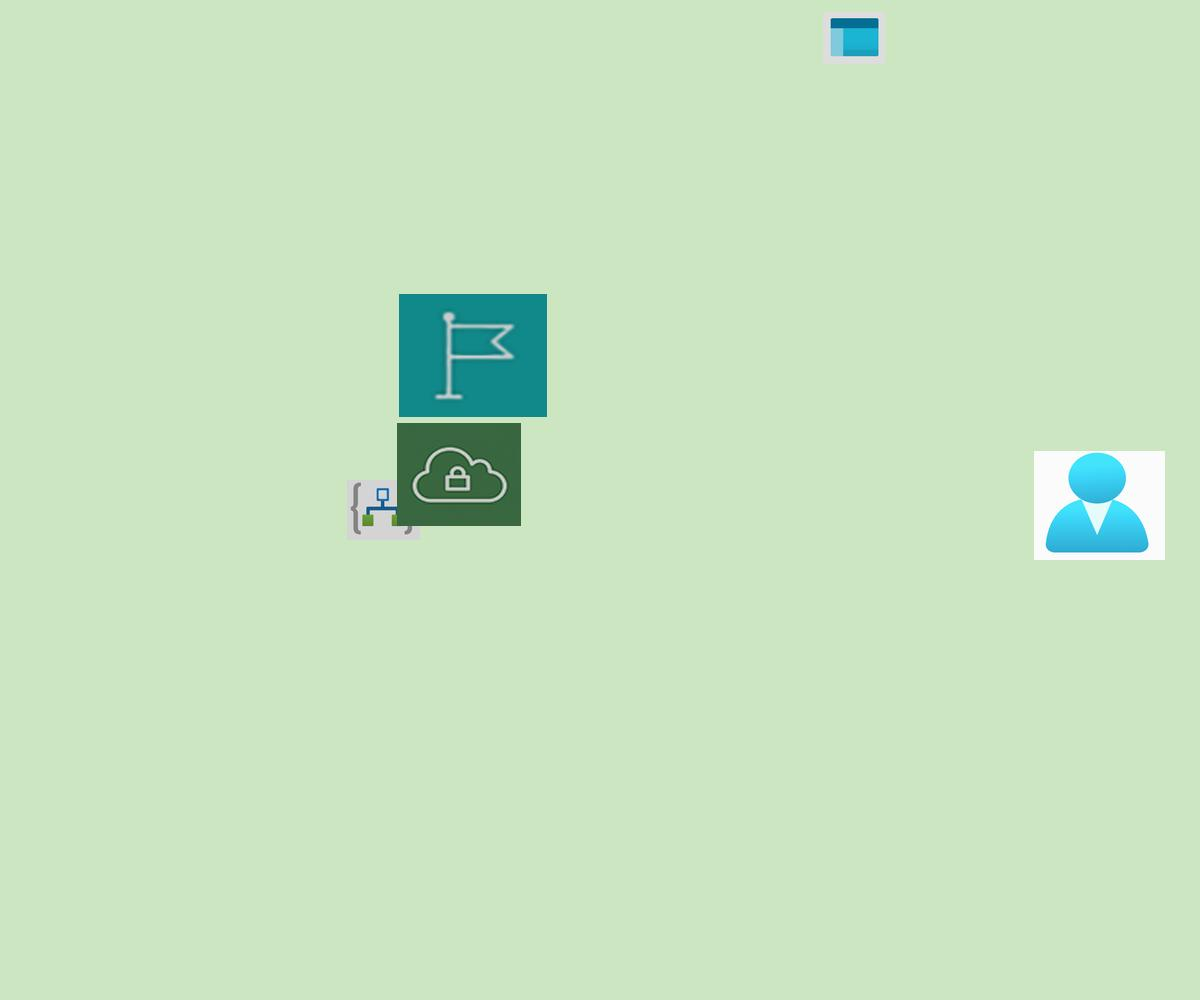AWS-Private_vpc: (397, 423, 521, 526)
AWS-Region: (399, 294, 547, 417)
Azure_integration-204-Logic-Apps: (347, 480, 420, 540)
Azure_management-portal: (823, 12, 885, 64)
Azure_users: (1034, 451, 1165, 560)
